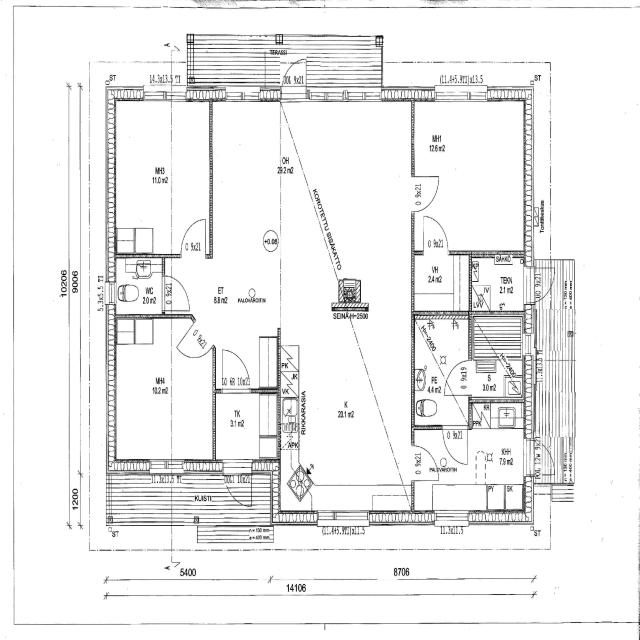door: (216, 344, 252, 392), (280, 57, 310, 101), (178, 215, 209, 257), (411, 173, 442, 213), (163, 272, 192, 314), (224, 471, 252, 512), (422, 212, 450, 252), (176, 327, 208, 362), (442, 425, 469, 465)
window: (432, 85, 487, 104), (326, 508, 370, 526), (140, 84, 172, 104), (434, 509, 471, 525), (520, 264, 532, 308)
zone: (420, 100, 528, 256), (109, 98, 208, 256), (109, 317, 214, 465), (413, 314, 470, 428), (212, 389, 279, 468), (470, 421, 526, 515), (416, 459, 488, 513), (411, 252, 469, 314), (110, 258, 166, 319), (470, 256, 527, 314), (489, 483, 524, 518), (529, 437, 553, 477)
